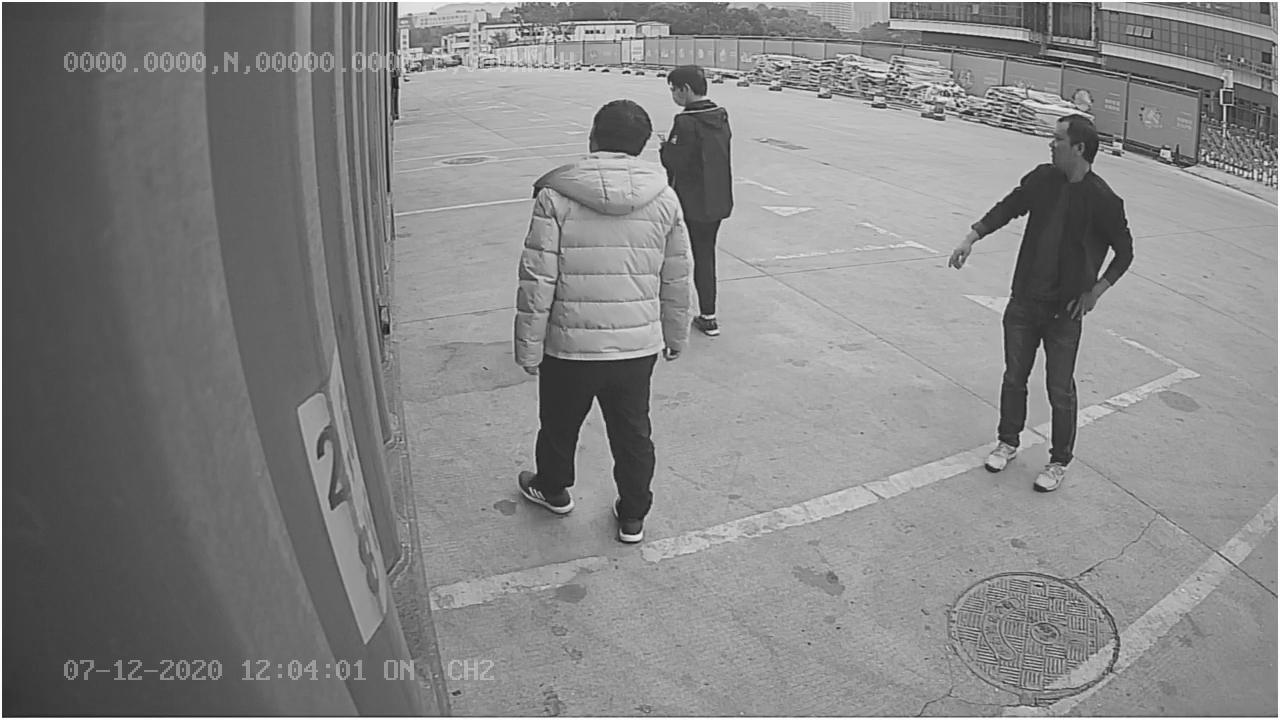person: (946, 97, 1135, 494)
